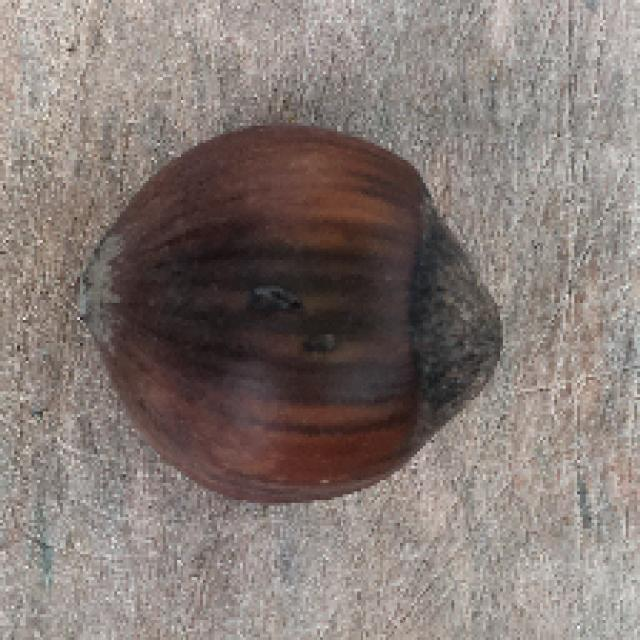damagedHazelnut: (82, 124, 506, 512)
